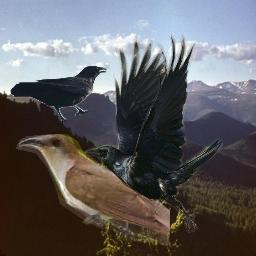Crow: (84, 33, 223, 233), (10, 65, 109, 123)
Cuckoo: (16, 134, 170, 247)
